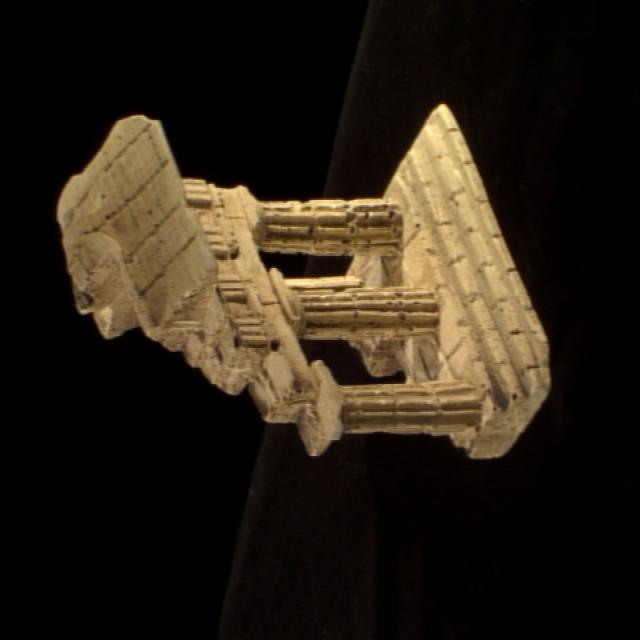Instance-Segmentation: (58, 104, 549, 456)
